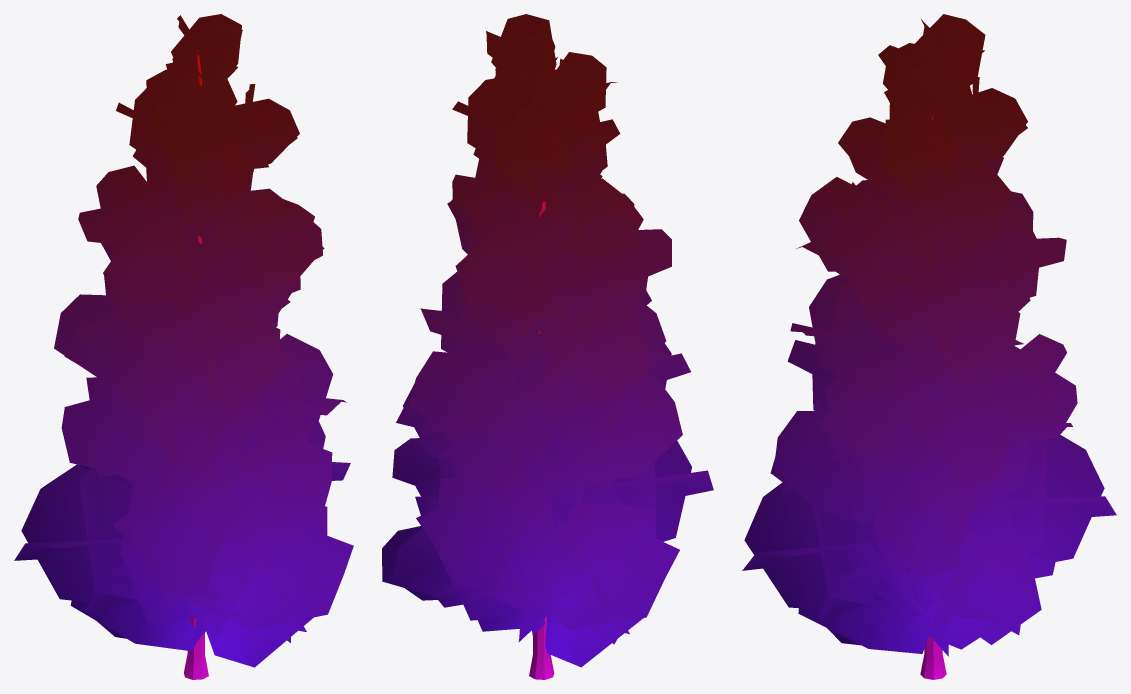
Rendered from synty-tree-birch-02.gltf.
3 views of the same model, side by side, from view 1: azimuth 30°, elevation 25°; view 2: azimuth 150°, elevation 25°; view 3: azimuth 270°, elevation 25° (orthographic).
Visible parts, largest first — view 1: SM_Tree_Birch_02; view 2: SM_Tree_Birch_02; view 3: SM_Tree_Birch_02.
Boxes of the visible parts, bbox=[...] form: SM_Tree_Birch_02: bbox=[14, 14, 353, 679]; SM_Tree_Birch_02: bbox=[382, 14, 713, 679]; SM_Tree_Birch_02: bbox=[742, 14, 1116, 679].
Size of the model in its own units: 2.5 by 5.4 by 2.79.
